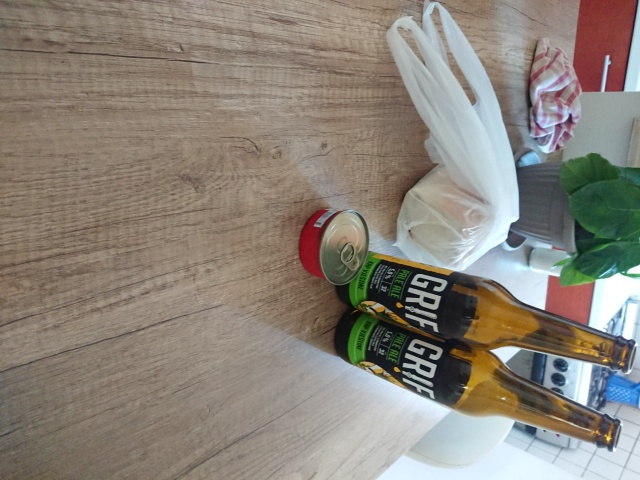Gavrilovic Pork Liver Pate 100g: (297, 205, 371, 286)
